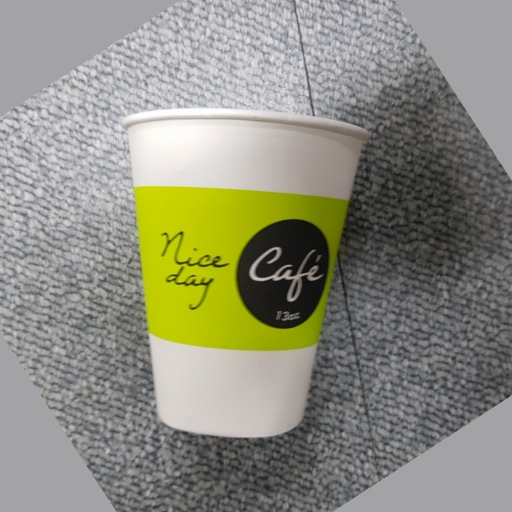Paper_1: (117, 108, 370, 436)
